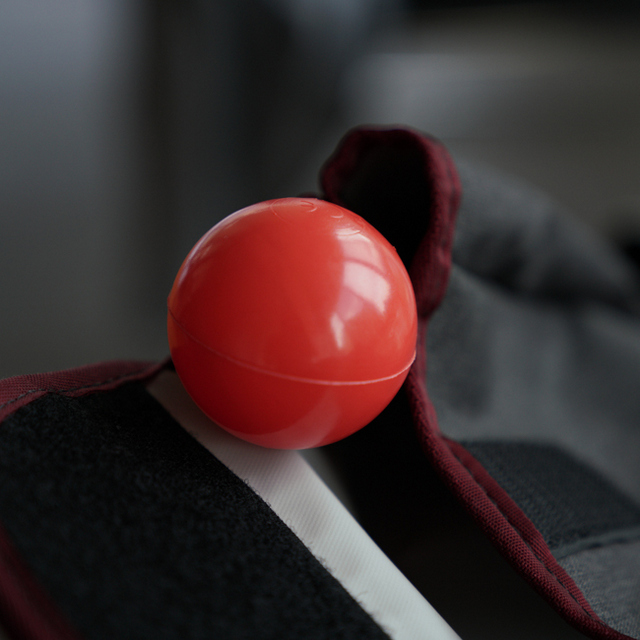Ball: (165, 198, 415, 448)
